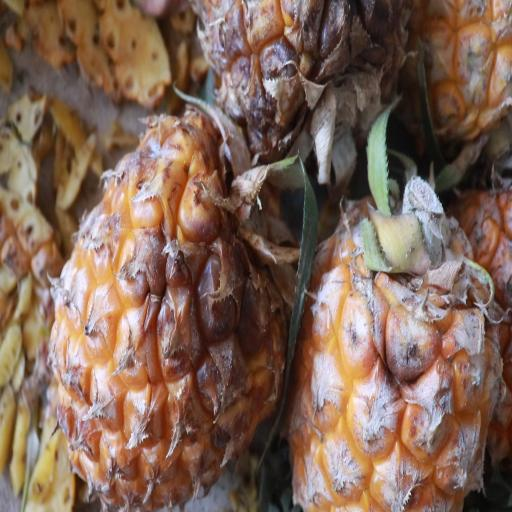Pineapple - v8 v1: (48, 93, 291, 512), (290, 165, 512, 512)
